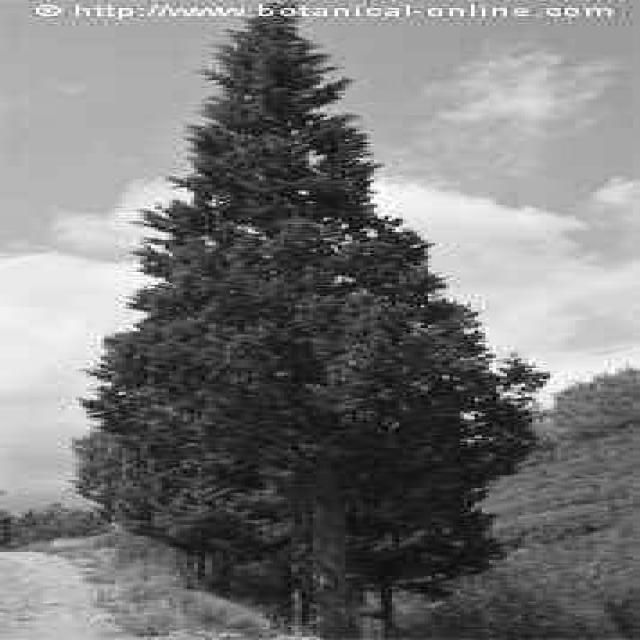cipres: (74, 0, 529, 640)
